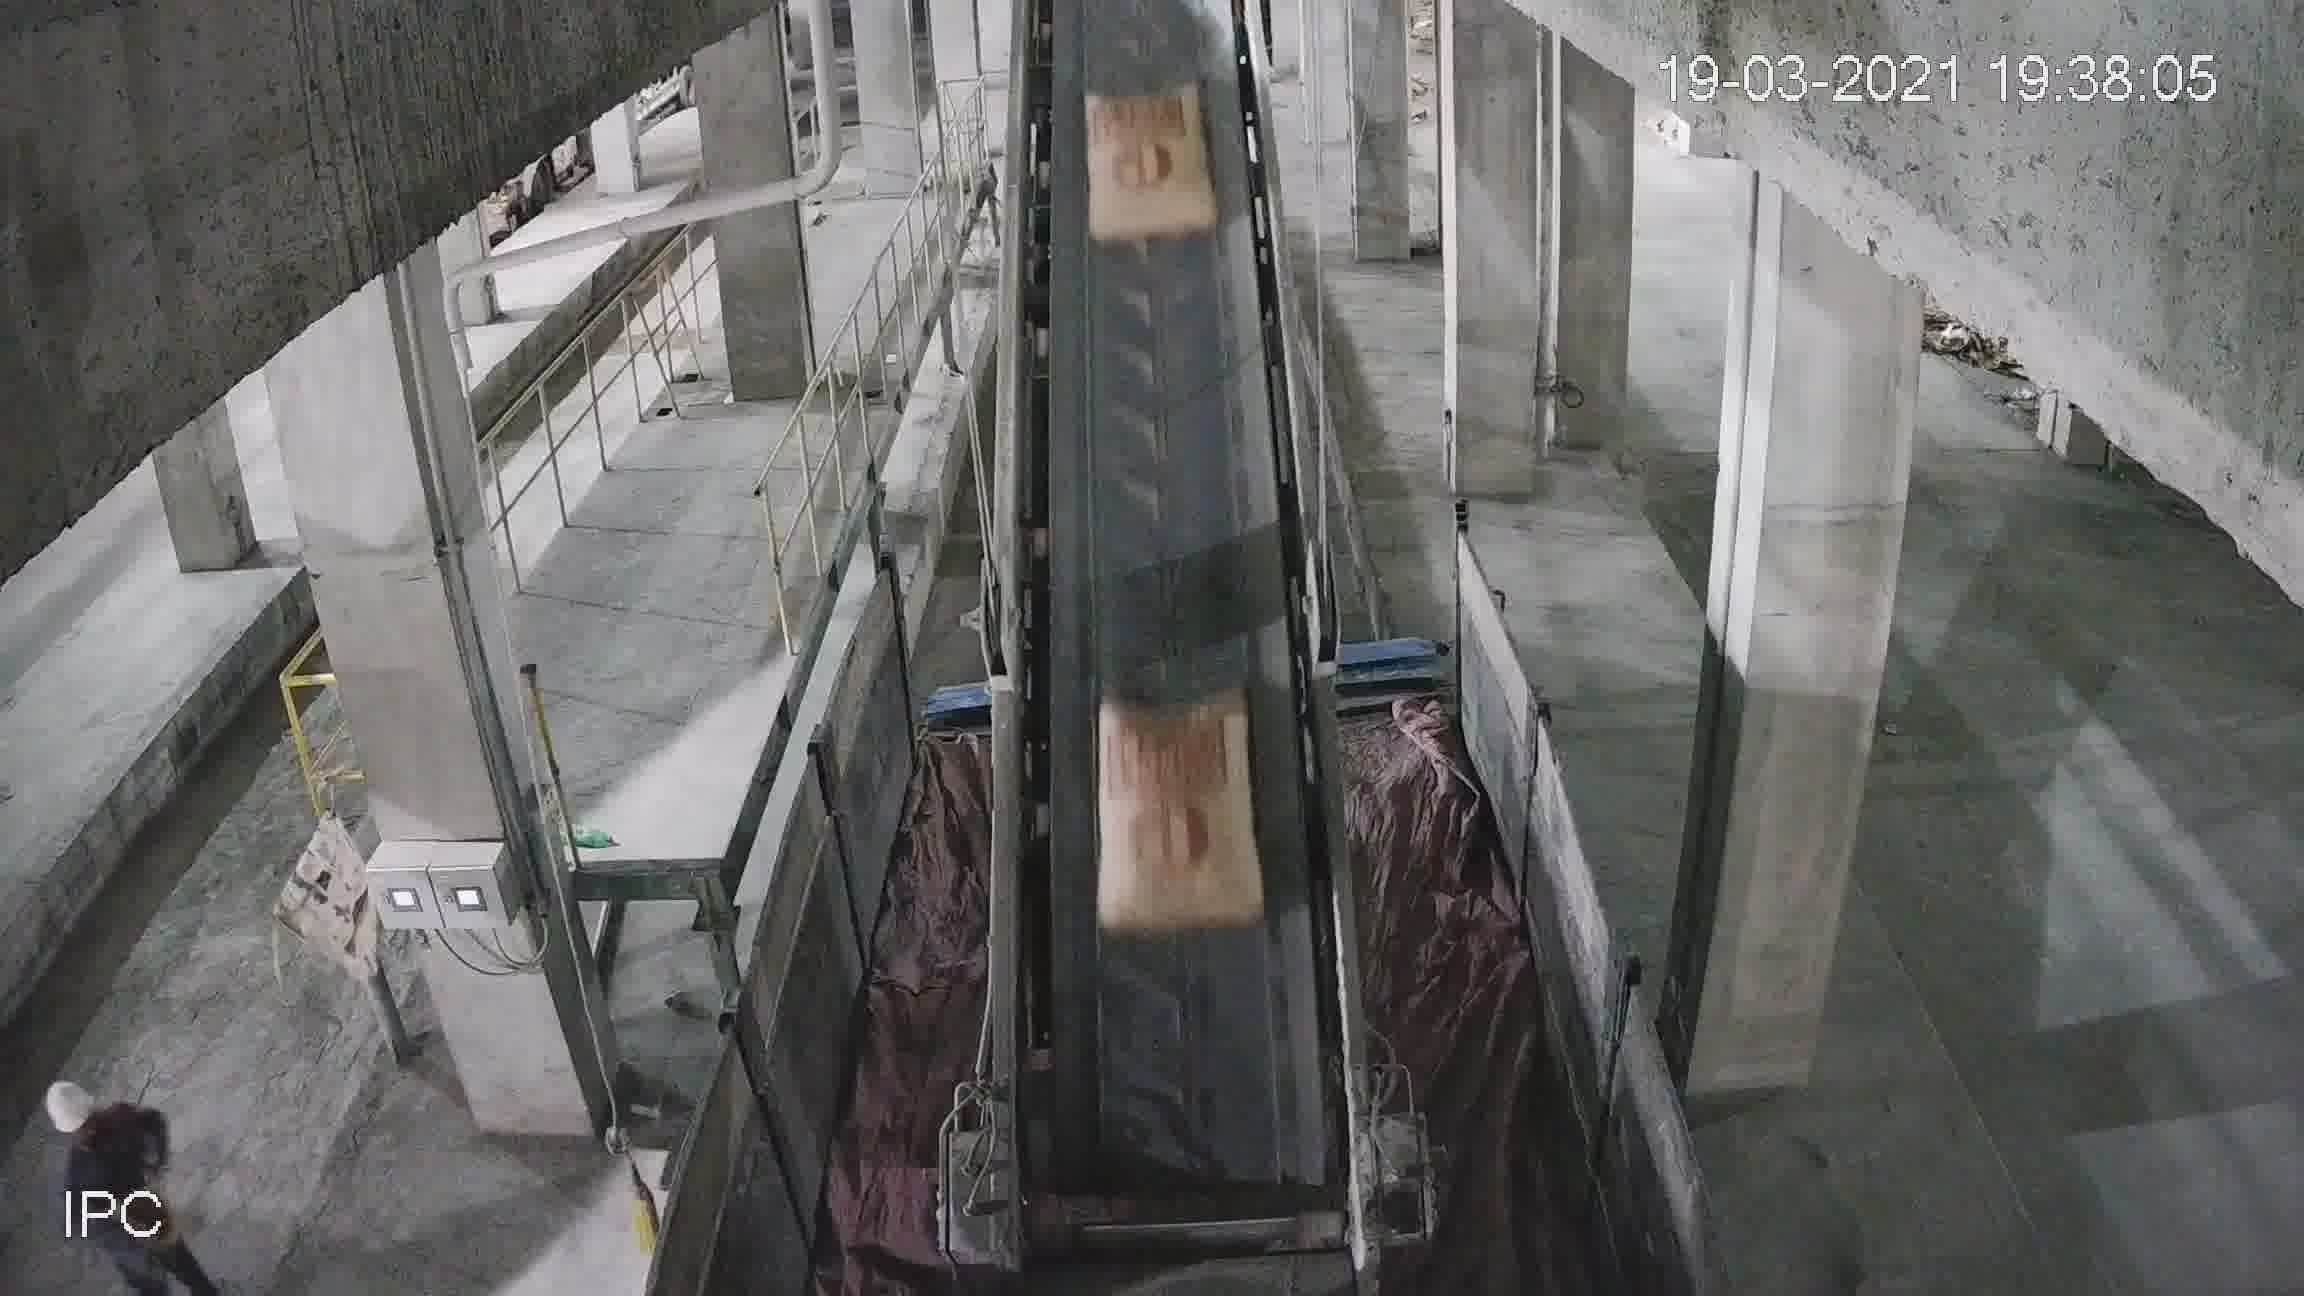bag: (1093, 690, 1249, 926), (1081, 85, 1214, 250)
belt: (1003, 63, 1326, 1067)
